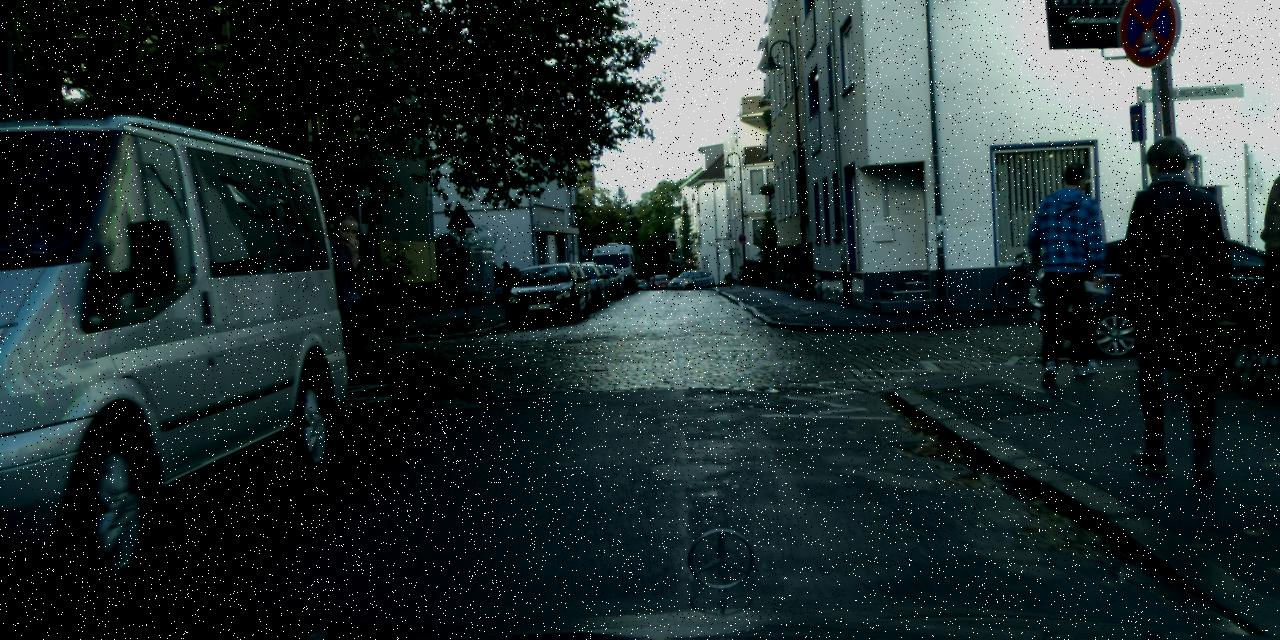ped: (1104, 135, 1242, 475), (289, 214, 385, 450), (1025, 160, 1116, 381), (496, 260, 514, 306)
